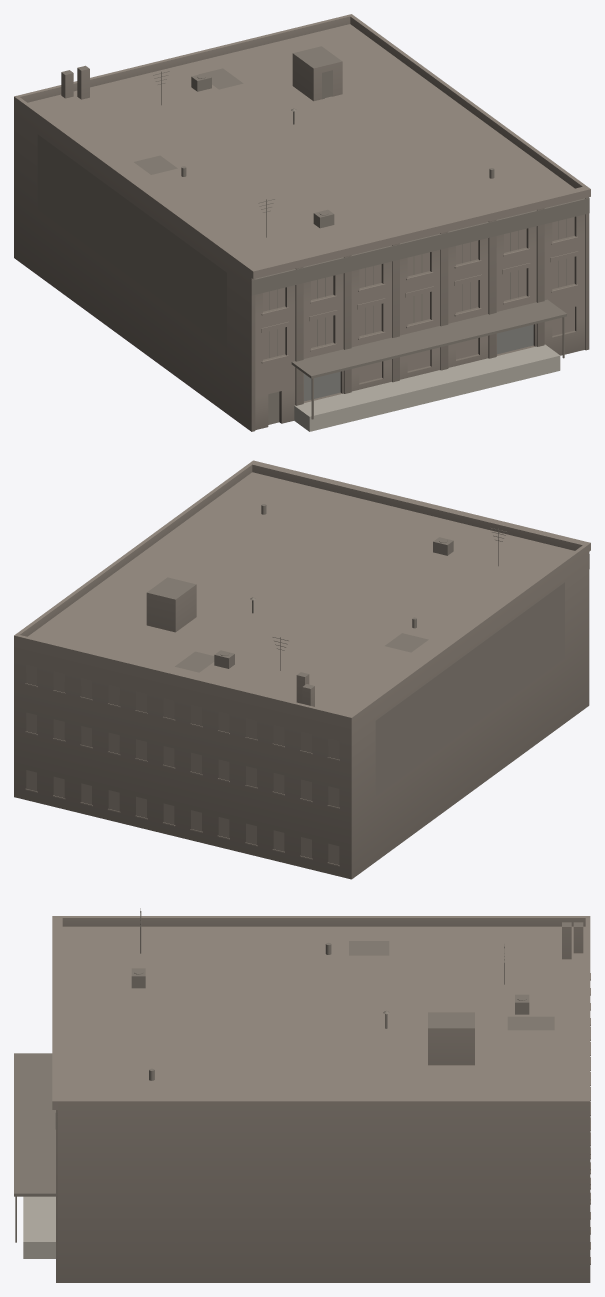
Rendered from warehouse_c.glb.
The picture shows the model from 3 angles, top to bottom: view 1: azimuth 30°, elevation 25°; view 2: azimuth 150°, elevation 25°; view 3: azimuth 270°, elevation 25°; orthographic projection. The views are drawn at different scales.
Parts seen in each view (by area): view 1: warehouse_c; view 2: warehouse_c; view 3: warehouse_c.
Part boxes in pixels (x1,y1,x2,y2): warehouse_c: [14, 14, 590, 431]; warehouse_c: [14, 460, 590, 879]; warehouse_c: [14, 908, 590, 1282].
Bounding box in the file's own units: 28.02 × 15.2 × 36.85.
